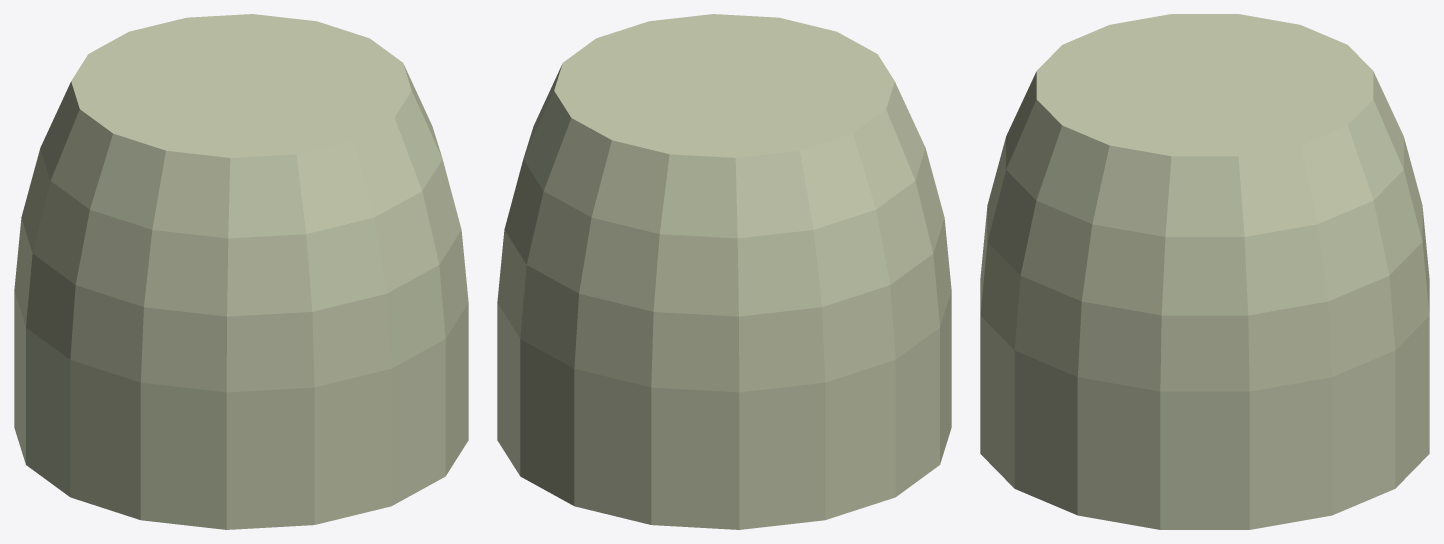
File: Hamal_Control_2_Collider.obj
The picture shows the model from 3 angles, left to right: view 1: azimuth 30°, elevation 25°; view 2: azimuth 150°, elevation 25°; view 3: azimuth 270°, elevation 25°; orthographic projection.
Parts seen in each view (by area): view 1: Hamal_Control_2_Collider; view 2: Hamal_Control_2_Collider; view 3: Hamal_Control_2_Collider.
Part boxes in pixels (left/top/right/bottom): Hamal_Control_2_Collider: left=14, top=14, right=468, bottom=529; Hamal_Control_2_Collider: left=497, top=14, right=951, bottom=529; Hamal_Control_2_Collider: left=980, top=14, right=1429, bottom=529.
Size of the model in its own units: 1.25 by 1.08 by 1.25.
